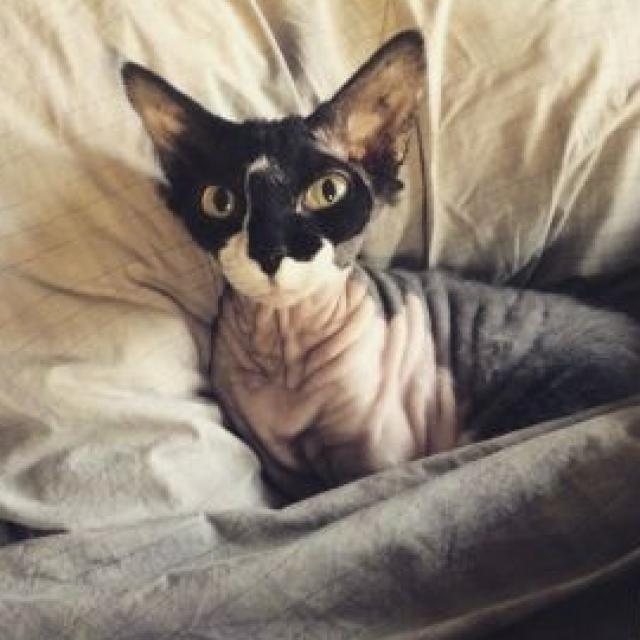Sphynx: (116, 28, 640, 500)
